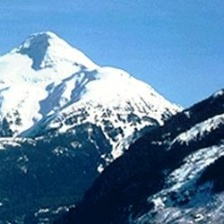neutral: (4, 3, 220, 222)
